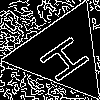H: (37, 28, 100, 85)
